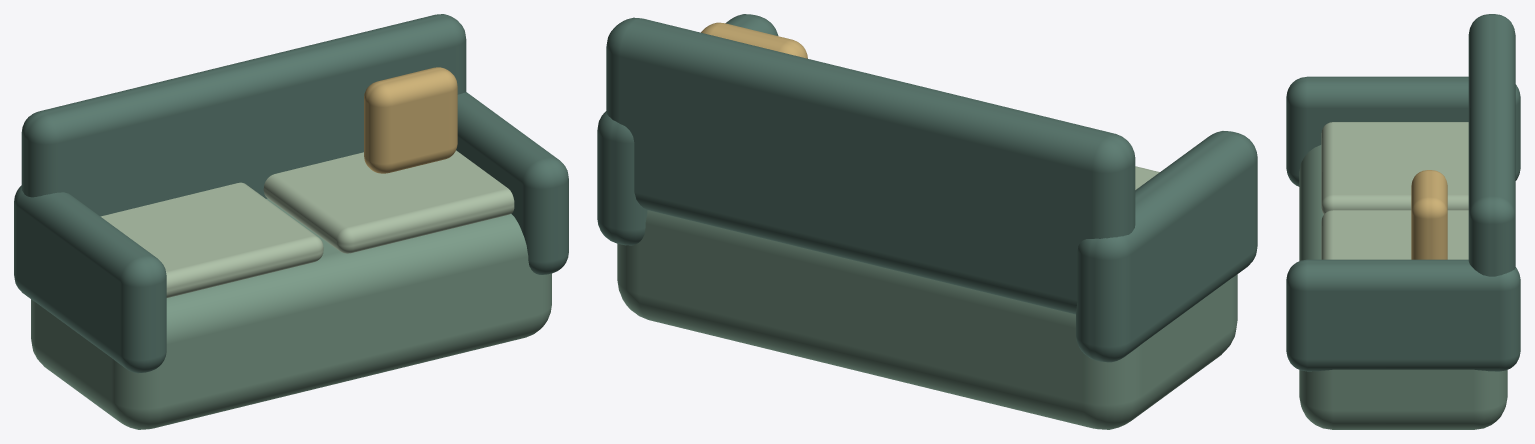
Rendered from sofa.glb.
The picture shows the model from 3 angles, left to right: view 1: azimuth 30°, elevation 25°; view 2: azimuth 150°, elevation 25°; view 3: azimuth 270°, elevation 25°; orthographic projection. The views are drawn at different scales.
Size of the model in its own units: 1.84 by 1 by 0.9.
